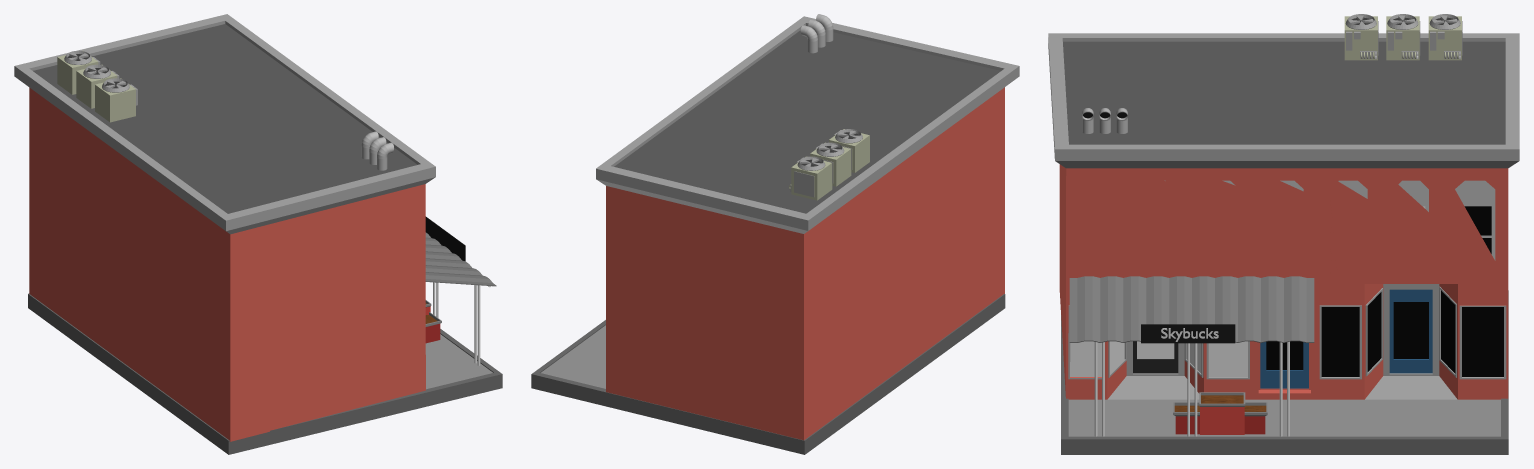
The model's file is GoodMPublic.fbx.
3 renders of one model, left to right at view 1: azimuth 30°, elevation 25°; view 2: azimuth 150°, elevation 25°; view 3: azimuth 270°, elevation 25°, orthographic. The views are drawn at different scales.
Visible parts, largest first — view 1: Cube, Cube.001, Plane, Plane.001, Cube.005, Cube.003, Cube.004, Cylinder.004, Plane.002, Cylinder.002, Cube.002; view 2: Cube, Cube.001, Plane, Cube.003, Cube.004, Cube.005, Cylinder.004; view 3: Cube, Plane.001, Plane, Cube.001, Cube.002, Plane.002, Cube.004, Cube.003, Cube.005, Cylinder.004, Cylinder.001, Cylinder.002 (+1 smaller).
Boxes of the visible parts, x1=… form: Cube: x1=14, y1=14, x2=435, y2=441; Cube.001: x1=28, y1=293, x2=502, y2=454; Plane: x1=425, y1=334, x2=492, y2=389; Plane.001: x1=425, y1=232, x2=496, y2=286; Cube.005: x1=95, y1=78, x2=137, y2=122; Cube.003: x1=57, y1=50, x2=100, y2=94; Cube.004: x1=76, y1=64, x2=119, y2=108; Cylinder.004: x1=361, y1=131, x2=393, y2=170; Plane.002: x1=425, y1=216, x2=465, y2=261; Cylinder.002: x1=474, y1=285, x2=480, y2=365; Cube.002: x1=425, y1=300, x2=441, y2=343; Cube: x1=596, y1=16, x2=1019, y2=440; Cube.001: x1=531, y1=294, x2=1005, y2=454; Plane: x1=541, y1=325, x2=605, y2=388; Cube.003: x1=789, y1=156, x2=832, y2=200; Cube.004: x1=810, y1=142, x2=851, y2=186; Cube.005: x1=829, y1=129, x2=869, y2=172; Cylinder.004: x1=800, y1=14, x2=833, y2=53; Cube: x1=1048, y1=33, x2=1519, y2=399; Plane.001: x1=1069, y1=276, x2=1314, y2=342; Plane: x1=1068, y1=399, x2=1500, y2=436; Cube.001: x1=1061, y1=290, x2=1508, y2=454; Cube.002: x1=1173, y1=392, x2=1267, y2=434; Plane.002: x1=1141, y1=324, x2=1235, y2=343; Cube.004: x1=1386, y1=14, x2=1420, y2=60; Cube.003: x1=1428, y1=14, x2=1462, y2=60; Cube.005: x1=1344, y1=14, x2=1378, y2=60; Cylinder.004: x1=1082, y1=108, x2=1127, y2=133; Cylinder.001: x1=1279, y1=341, x2=1289, y2=436; Cylinder.002: x1=1094, y1=342, x2=1104, y2=436.
Size of the model in its own units: 2278 by 2064 by 2956.
